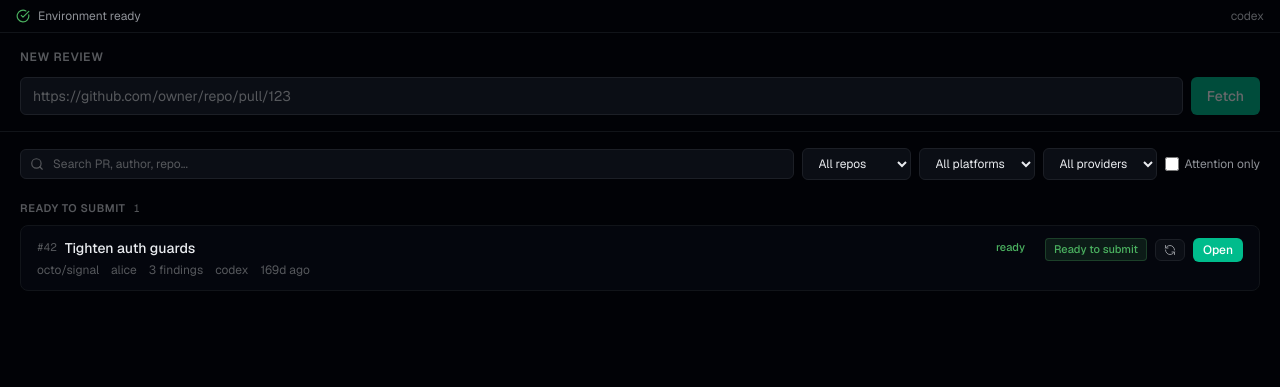
it: InboxView › shows empty filtered state when nothing matches
The width and height of the screenshot is (1280, 387).
Check: the heading "Tighten auth guards" is shown, box [65, 238, 195, 256]
Step 1. Type "nope" into the field with placeholder "Search PR, author, repo..." → (407, 164), box [20, 149, 794, 179]
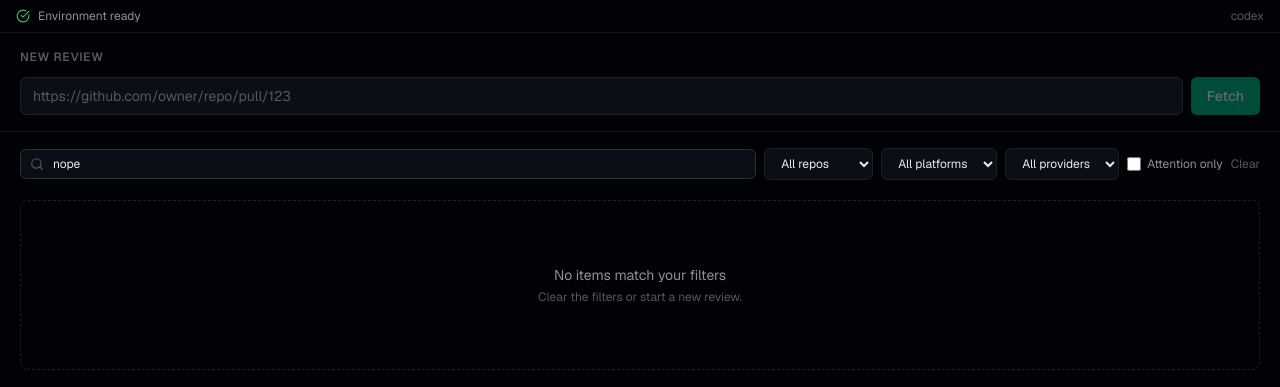
Check: the text "No items match your filters" is shown, box [554, 265, 726, 285]
